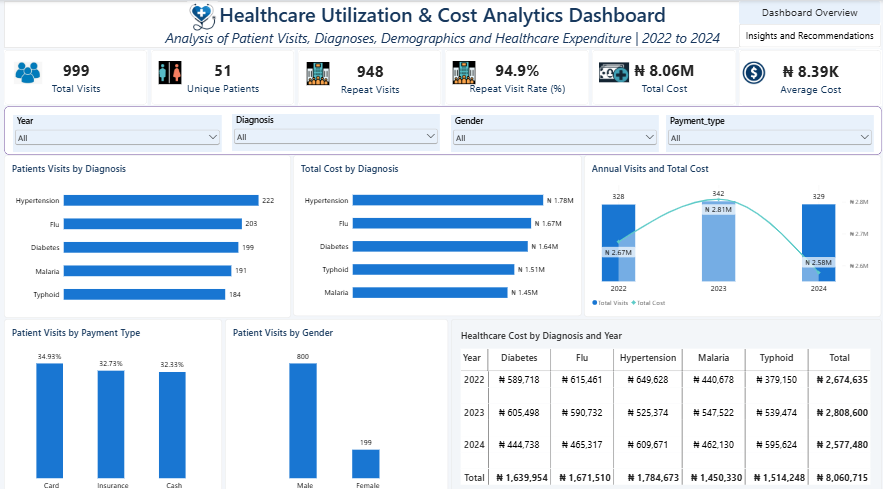

Layout of this report page (visuals, bound fields, positions):
{"tool":"powerbi","page":{"name":"Dashboard Overview","canvas":[1920,1080],"ordinal":0},"visuals":[{"type":"cardVisual","fields":{"Data":["Patient_Visits_Import.Total Visits"]},"box":[10.8,108,310,118.8],"z":0},{"type":"cardVisual","fields":{"Data":["Patient_Visits_Import.Unique Patients"]},"box":[328.3,108,310,118.8],"z":1000},{"type":"cardVisual","fields":{"Data":["Patient_Visits_Import.Repeat Visits"]},"box":[645.8,108,310,120],"z":2000},{"type":"cardVisual","fields":{"Data":["Patient_Visits_Import.Total Cost"]},"box":[1280.9,108,311,118.8],"z":3000},{"type":"clusteredBarChart","title":"Patients Visits by Diagnosis","fields":{"Category":["Patient_Visits_Import.diagnosis"],"Y":["CountNonNull(Patient_Visits_Import.visit_id)"]},"box":[10.8,334.8,619.9,352.1],"z":4000},{"type":"clusteredBarChart","title":"Total Cost by Diagnosis","fields":{"Category":["Patient_Visits_Import.diagnosis"],"Y":["Patient_Visits_Import.Total Cost"]},"box":[635,334.8,624.2,347.8],"z":5000},{"type":"lineClusteredColumnComboChart","title":"Annual Visits and Total Cost","fields":{"Category":["Patient_Visits_Import.year"],"Y":["Patient_Visits_Import.Total Visits"],"Y2":["Patient_Visits_Import.Total Cost"]},"box":[1263.6,334.8,641.5,349.9],"z":6000},{"type":"columnChart","title":"Patient Visits by Payment Type","fields":{"Category":["Patient_Visits_Import.payment_type"],"Y":["Patient_Visits_Import.Total Visits"]},"box":[10.8,689,470.9,391],"z":7000},{"type":"clusteredColumnChart","title":"Patient Visits by Gender","fields":{"Category":["Patient_Visits_Import.gender"],"Y":["Patient_Visits_Import.Total Visits"]},"box":[488.2,689,481.7,391],"z":8000},{"type":"pivotTable","title":"Healthcare Cost by Diagnosis and Year","fields":{"Rows":["Patient_Visits_Import.year"],"Columns":["Patient_Visits_Import.diagnosis"],"Values":["Patient_Visits_Import.Total Cost"]},"box":[976,689,930,390],"z":9000},{"type":"textbox","title":"Healthcare Utilization & Cost Analytics Dashboard","box":[10.8,2.2,1894.3,101.5],"z":10000},{"type":"cardVisual","fields":{"Data":["Patient_Visits_Import.Average Cost"]},"box":[1598.4,108,308.9,121],"z":11000},{"type":"shape","box":[10.8,229,1896.5,105.8],"z":12000},{"type":"slicer","fields":{"Values":["Patient_Visits_Import.diagnosis"]},"box":[503.3,246.2,449.3,79.9],"z":13000},{"type":"slicer","fields":{"Values":["Patient_Visits_Import.year"]},"box":[30.2,248.4,451.4,79.9],"z":14000},{"type":"slicer","fields":{"Values":["Patient_Visits_Import.payment_type"]},"box":[1440.7,248.4,449.3,79.9],"z":15000},{"type":"slicer","fields":{"Values":["Patient_Visits_Import.gender"]},"box":[976.3,248.4,449.3,79.9],"z":16000},{"type":"pageNavigator","box":[1598.4,2.2,306.7,101.5],"z":17000},{"type":"image","box":[397.4,2.2,84.2,67],"z":18000},{"type":"image","box":[1598.4,131.8,64.8,49.7],"z":19000},{"type":"image","box":[30.2,131.8,65,50],"z":20000},{"type":"image","box":[337,131.8,64.8,49.7],"z":21000},{"type":"image","box":[656.6,133.9,64.8,49.7],"z":22000},{"type":"image","box":[1296,131.8,64.8,49.7],"z":23000},{"type":"cardVisual","fields":{"Data":["Patient_Visits_Import.Repeat Visit Rate (%)"]},"box":[963,108,311,118.8],"z":24000},{"type":"image","box":[972,131.8,64.8,49.7],"z":25000}]}

Visuals, with their boxes in screenshot pixels (x1, y1, x2, y2), scaled from the page's 1920x1080 canvas onto the 883x489 screenshot:
cardVisual - Patient_Visits_Import.Total Visits: {"left": 5, "top": 49, "right": 148, "bottom": 103}
cardVisual - Patient_Visits_Import.Unique Patients: {"left": 151, "top": 49, "right": 294, "bottom": 103}
cardVisual - Patient_Visits_Import.Repeat Visits: {"left": 297, "top": 49, "right": 440, "bottom": 103}
cardVisual - Patient_Visits_Import.Total Cost: {"left": 589, "top": 49, "right": 732, "bottom": 103}
"Patients Visits by Diagnosis" clusteredBarChart: {"left": 5, "top": 152, "right": 290, "bottom": 311}
"Total Cost by Diagnosis" clusteredBarChart: {"left": 292, "top": 152, "right": 579, "bottom": 309}
"Annual Visits and Total Cost" lineClusteredColumnComboChart: {"left": 581, "top": 152, "right": 876, "bottom": 310}
"Patient Visits by Payment Type" columnChart: {"left": 5, "top": 312, "right": 222, "bottom": 488}
"Patient Visits by Gender" clusteredColumnChart: {"left": 225, "top": 312, "right": 446, "bottom": 488}
"Healthcare Cost by Diagnosis and Year" pivotTable: {"left": 449, "top": 312, "right": 877, "bottom": 488}
"Healthcare Utilization & Cost Analytics Dashboard" textbox: {"left": 5, "top": 1, "right": 876, "bottom": 47}
cardVisual - Patient_Visits_Import.Average Cost: {"left": 735, "top": 49, "right": 877, "bottom": 104}
shape: {"left": 5, "top": 104, "right": 877, "bottom": 152}
slicer - Patient_Visits_Import.diagnosis: {"left": 231, "top": 111, "right": 438, "bottom": 148}
slicer - Patient_Visits_Import.year: {"left": 14, "top": 112, "right": 221, "bottom": 149}
slicer - Patient_Visits_Import.payment_type: {"left": 663, "top": 112, "right": 869, "bottom": 149}
slicer - Patient_Visits_Import.gender: {"left": 449, "top": 112, "right": 656, "bottom": 149}
pageNavigator: {"left": 735, "top": 1, "right": 876, "bottom": 47}
image: {"left": 183, "top": 1, "right": 221, "bottom": 31}
image: {"left": 735, "top": 60, "right": 765, "bottom": 82}
image: {"left": 14, "top": 60, "right": 44, "bottom": 82}
image: {"left": 155, "top": 60, "right": 185, "bottom": 82}
image: {"left": 302, "top": 61, "right": 332, "bottom": 83}
image: {"left": 596, "top": 60, "right": 626, "bottom": 82}
cardVisual - Patient_Visits_Import.Repeat Visit Rate (%): {"left": 443, "top": 49, "right": 586, "bottom": 103}
image: {"left": 447, "top": 60, "right": 477, "bottom": 82}
